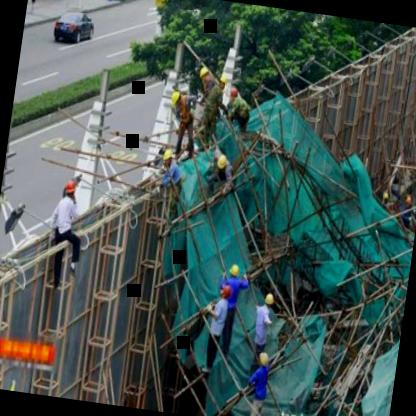helmet: (258, 284, 279, 311), (212, 150, 232, 178), (158, 143, 178, 171), (167, 86, 188, 111), (194, 61, 212, 90), (61, 174, 81, 200), (254, 346, 273, 373), (212, 70, 232, 95), (224, 262, 242, 284), (216, 280, 234, 298), (227, 84, 242, 105)
